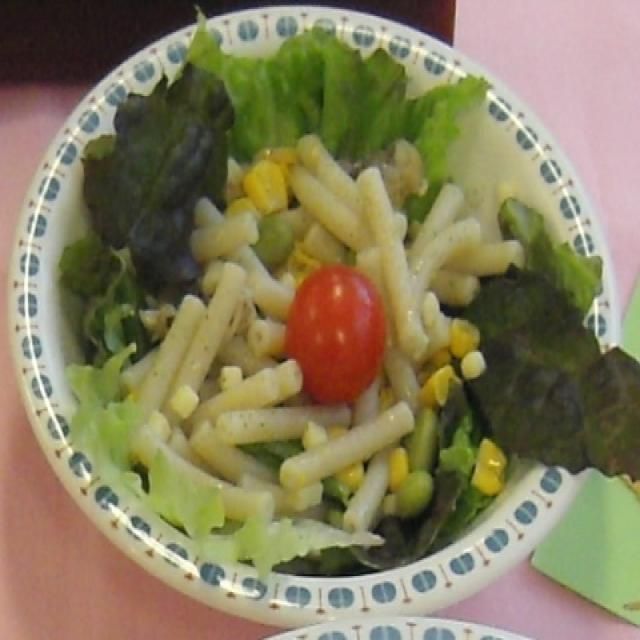蔬菜料理: (1, 0, 624, 640)
